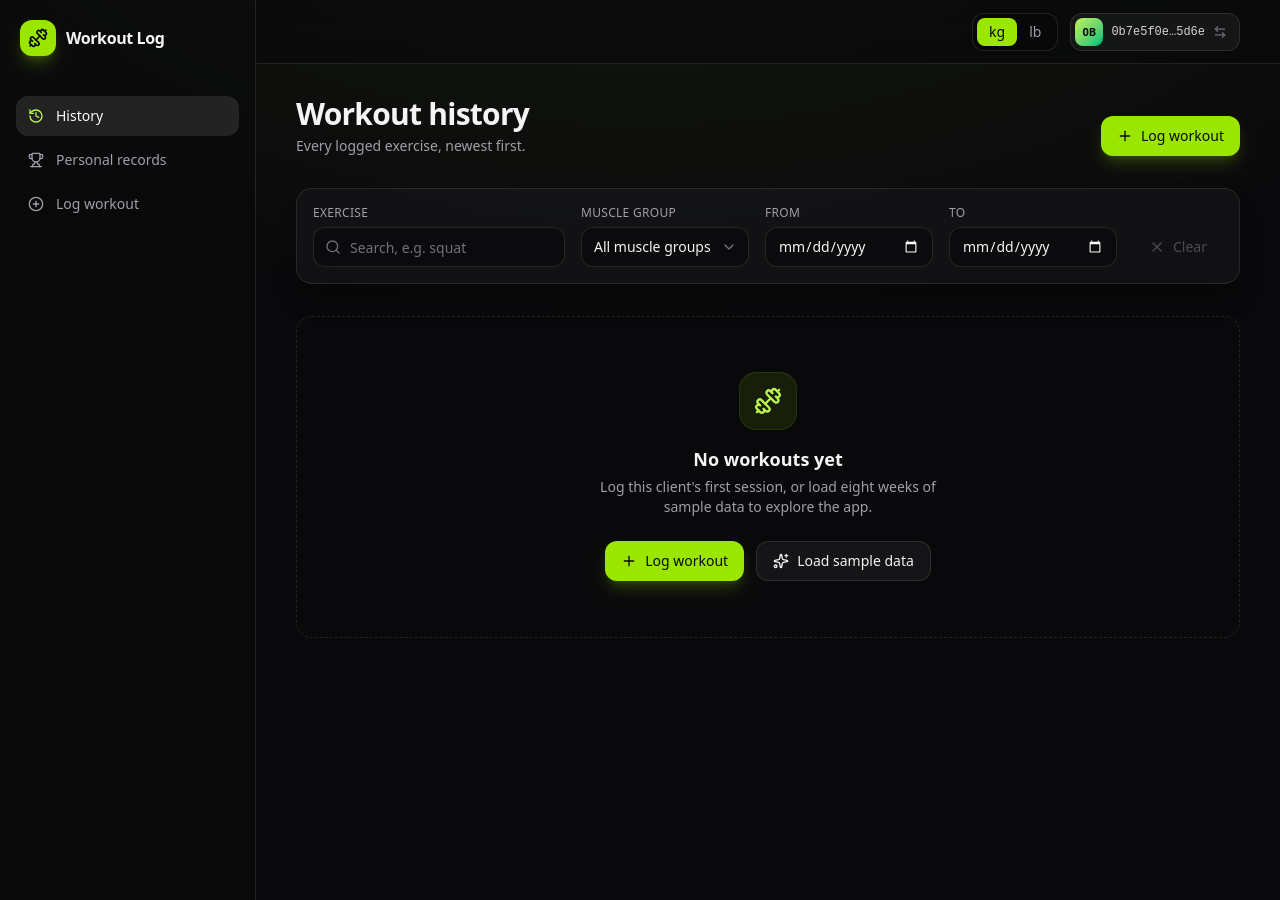
Test: routing and app shell › shows the client and navigates between screens
This screenshot has width=1280, height=900.
expect the text "0b7e5f0e…5d6e" is shown: met, box [1111,24,1205,40]
Click the link "Personal records".
click(97, 160)  # box [28,150,166,169]
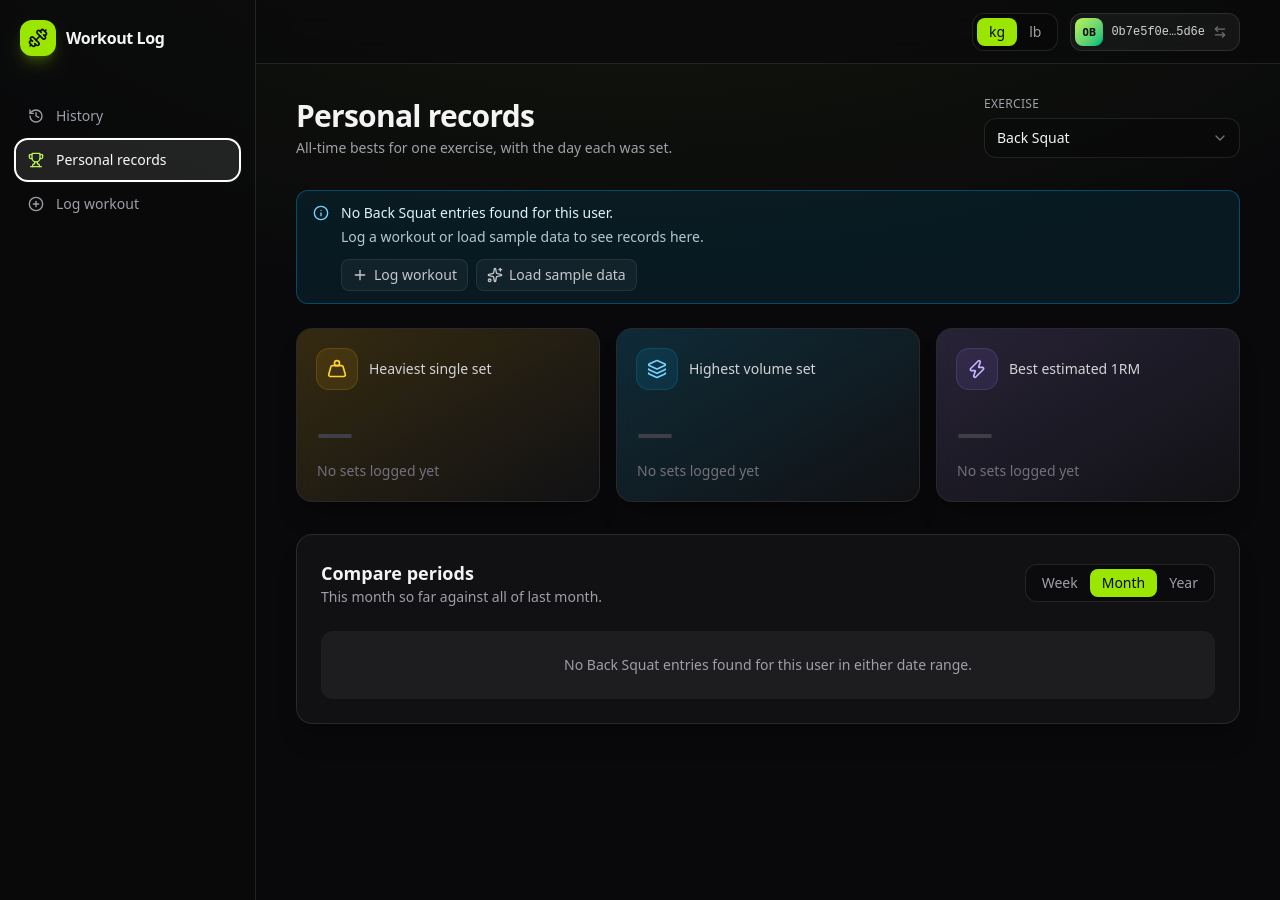
expect the heading "Personal records" is shown: met, box [296,95,534,136]
Click the link "Log workout" below "History".
click(84, 204)  # box [28,194,139,213]
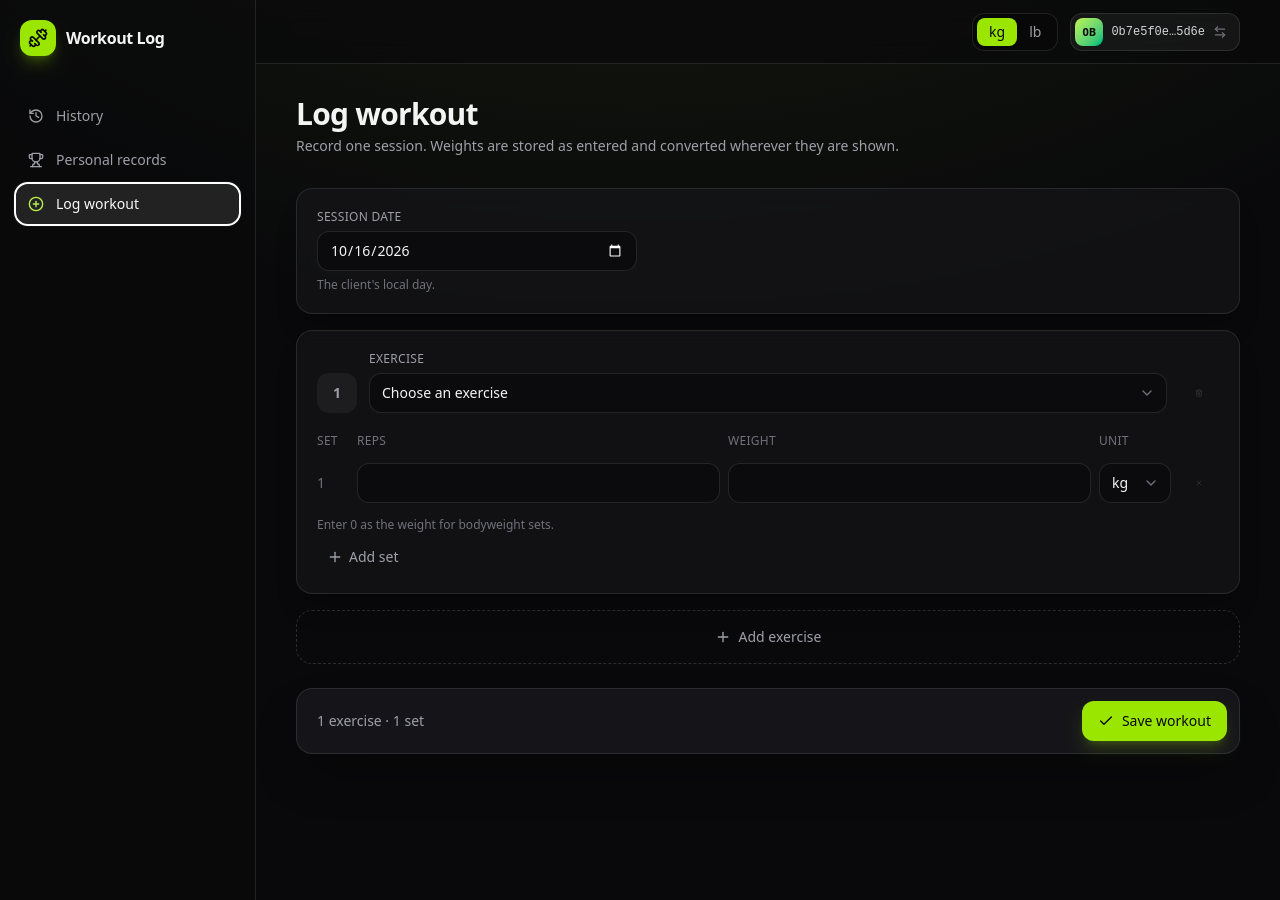
expect the heading "Log workout" is shown: met, box [296,93,478,134]
